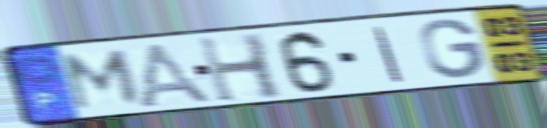6: (275, 28, 337, 95)
A: (133, 39, 218, 107)
G: (417, 16, 487, 81)
H: (194, 31, 287, 105)
I: (371, 24, 407, 84)
M: (61, 47, 145, 112)
